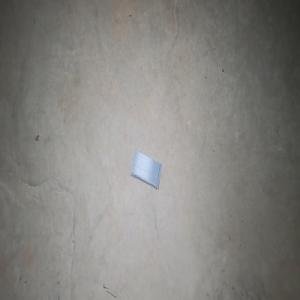PlasticPart: (129, 150, 162, 190)
